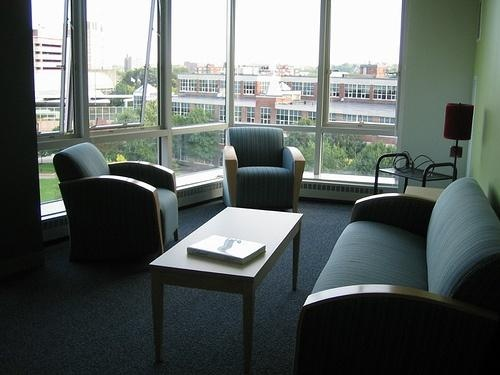chair: (54, 142, 181, 263), (223, 127, 307, 213)
sofa: (295, 177, 500, 375)
